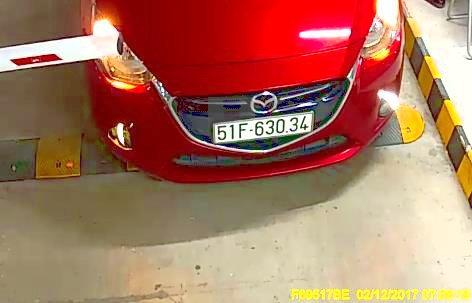plate: (209, 113, 315, 146)
